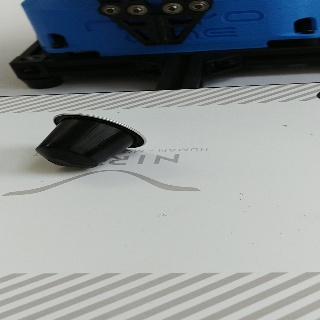capsule_10: (35, 112, 146, 168)
